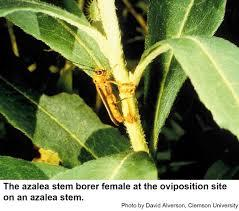Insects: (69, 57, 131, 129)
